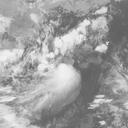cyclone: (38, 63, 80, 97)
